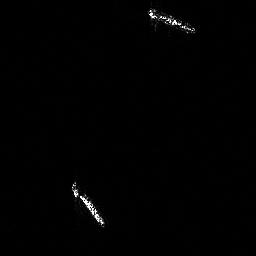ship: (68, 178, 109, 231), (145, 4, 199, 36)
